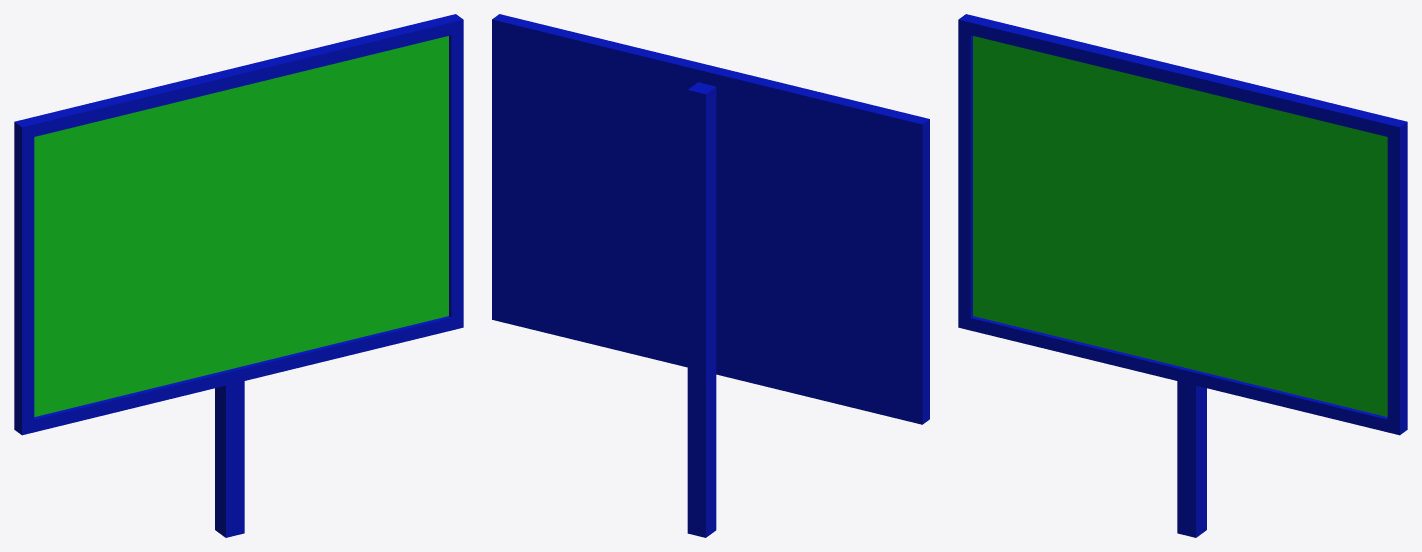
File: Highway Ad.fbx
3 views of the same model, side by side, from view 1: azimuth 30°, elevation 25°; view 2: azimuth 150°, elevation 25°; view 3: azimuth 330°, elevation 25° (orthographic). The views are drawn at different scales.
Parts seen in each view (by area): view 1: Highway Ad; view 2: Highway Ad; view 3: Highway Ad.
Boxes of the visible parts, x1,y1,x2,y2 form: Highway Ad: (14,14,463,537); Highway Ad: (492,14,929,537); Highway Ad: (958,14,1407,537).
Size of the model in its own units: 711 by 51.29 by 720.
